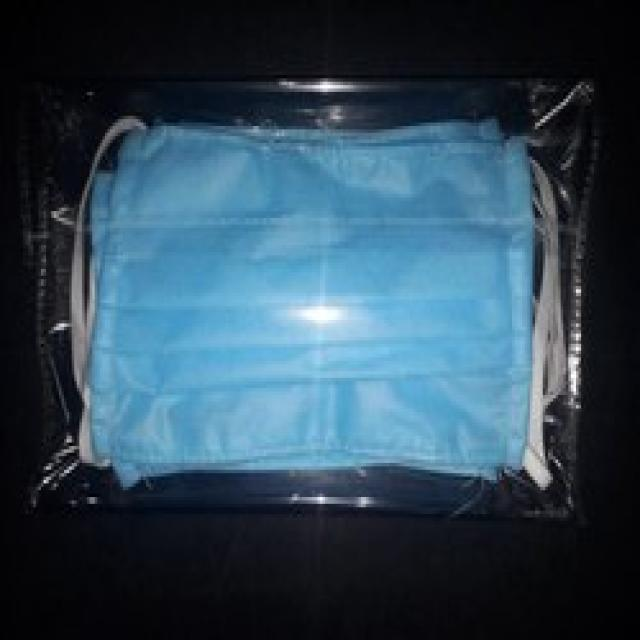face mask: (64, 119, 566, 514)
